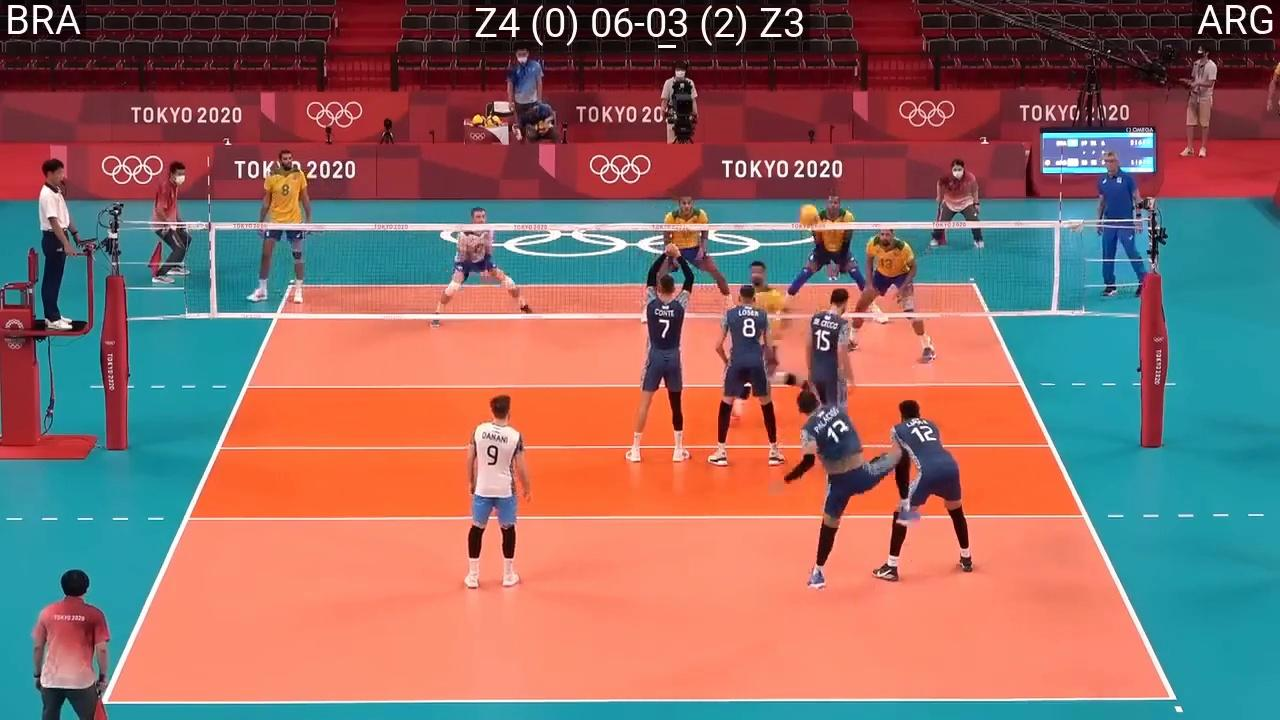ball: (798, 205, 823, 228)
